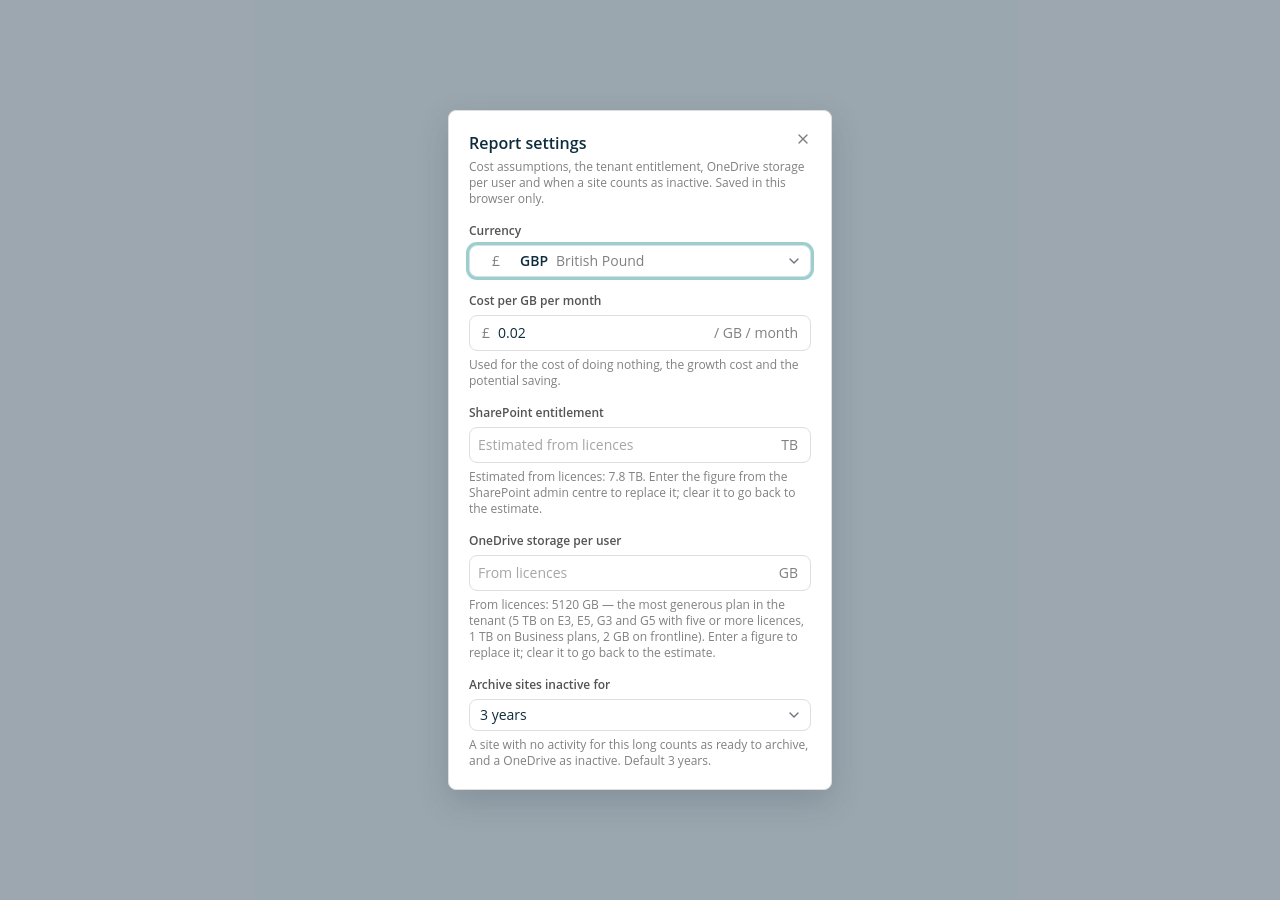
SettingsDialog › puts the saved value back when the field is left holding one the report ignores
The width and height of the screenshot is (1280, 900).
In the number field labelled "OneDrive storage per user": coordinates (624, 573) top-left (470, 557), bottom-right (779, 589), type "0"
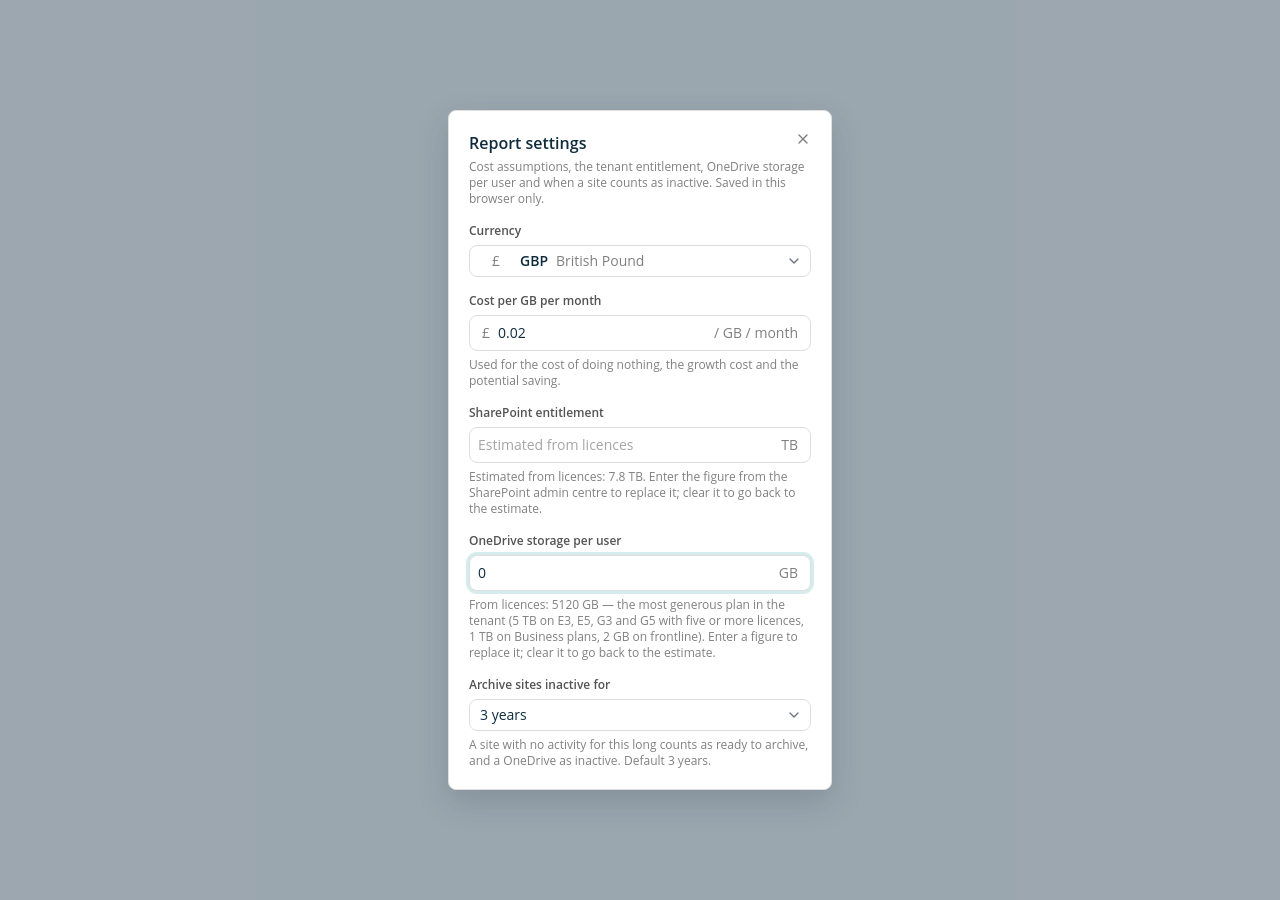
Press Tab
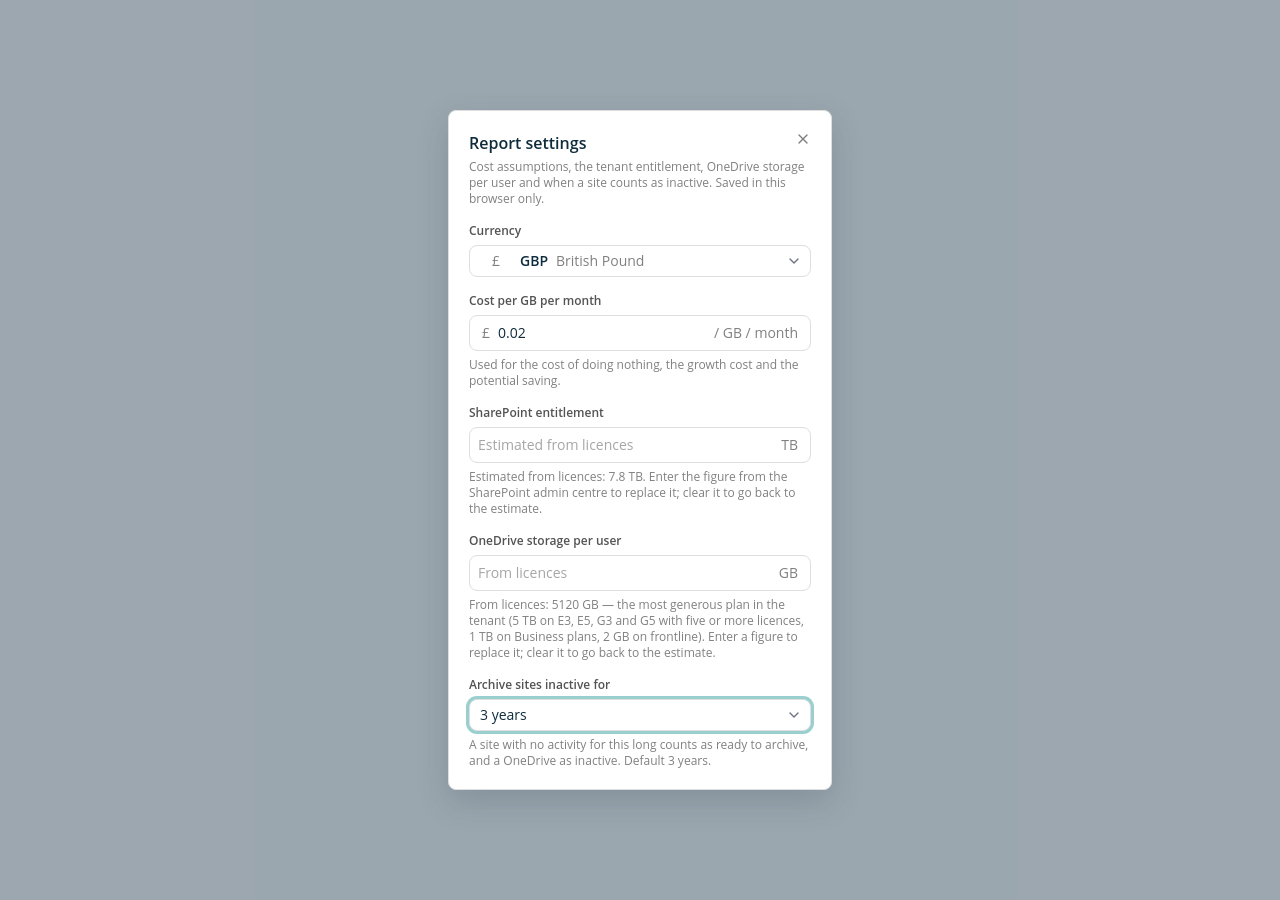
Expected: the number field labelled "OneDrive storage per user" is not empty, top-left (470, 557), bottom-right (779, 589)
